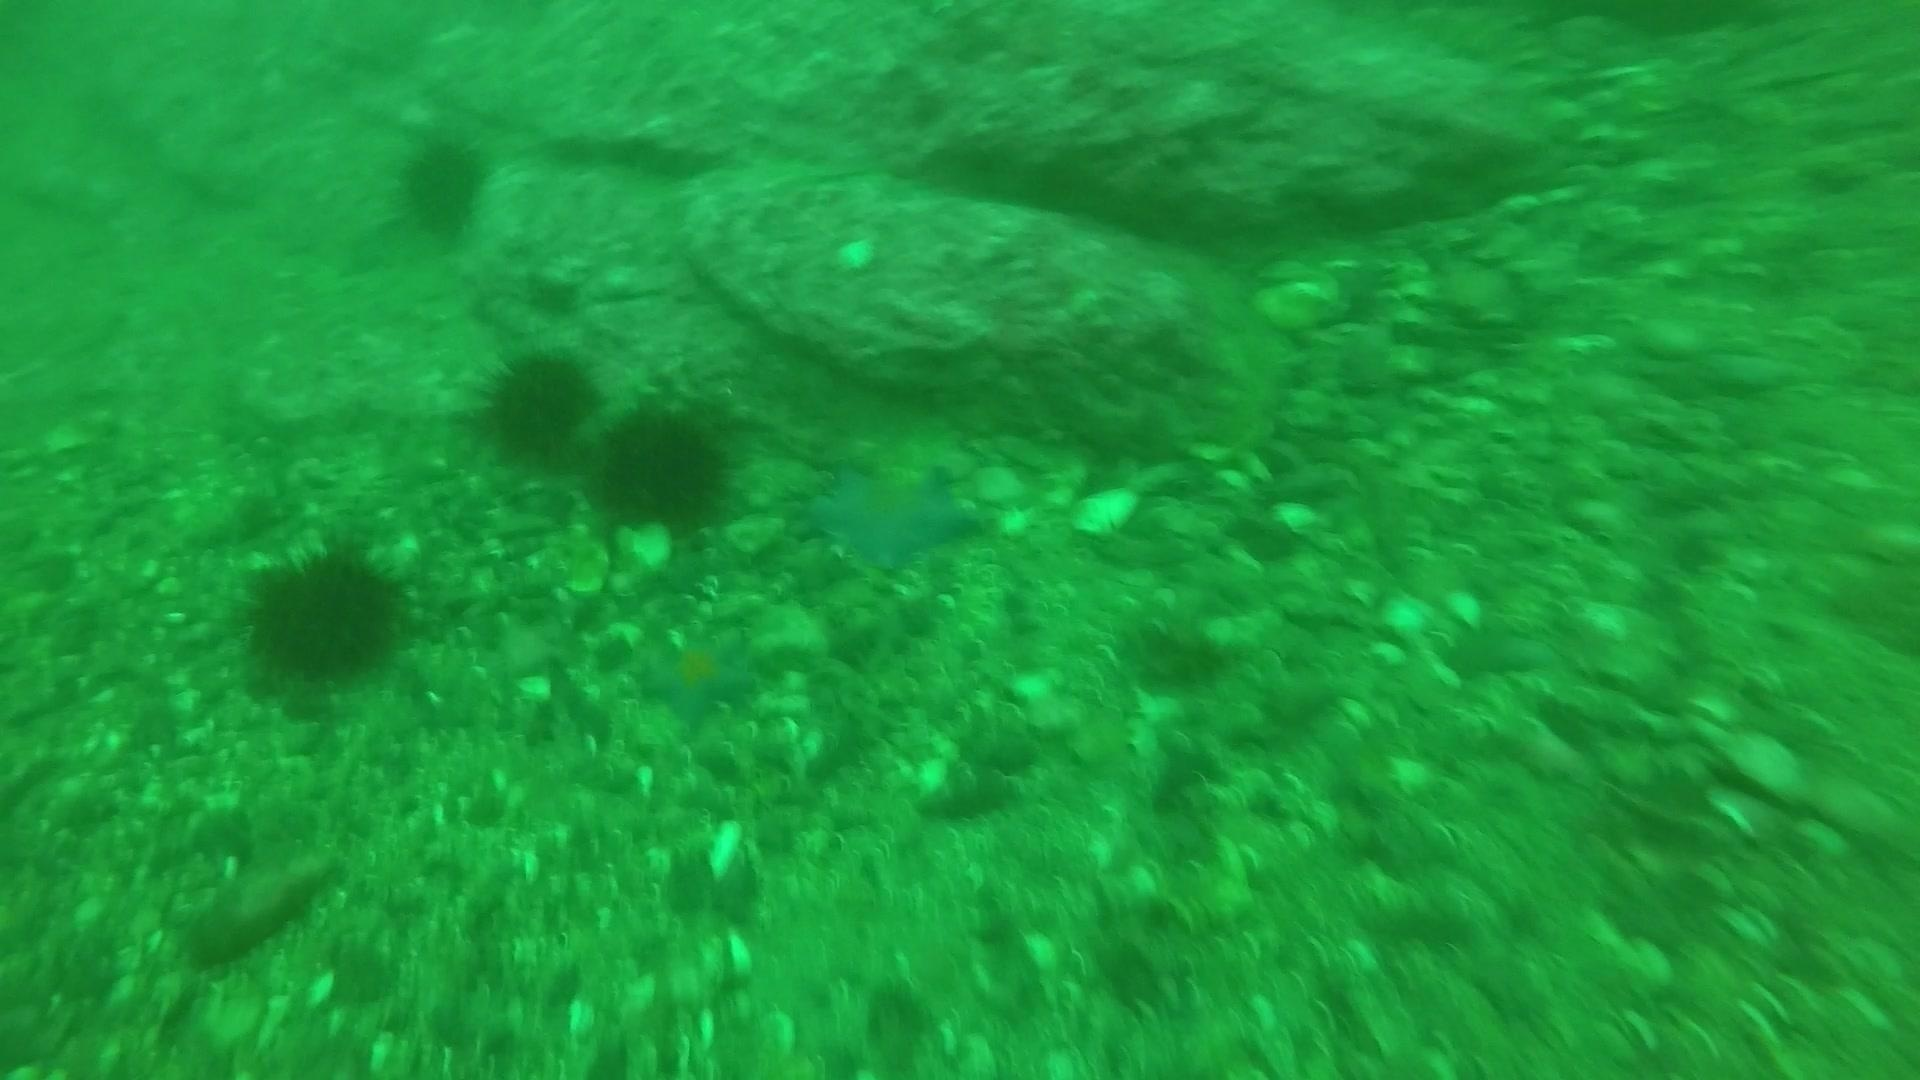echinus: (231, 530, 417, 695), (587, 396, 741, 535), (468, 342, 607, 468), (389, 127, 496, 244)
starfish: (793, 448, 988, 582), (632, 620, 765, 731)
